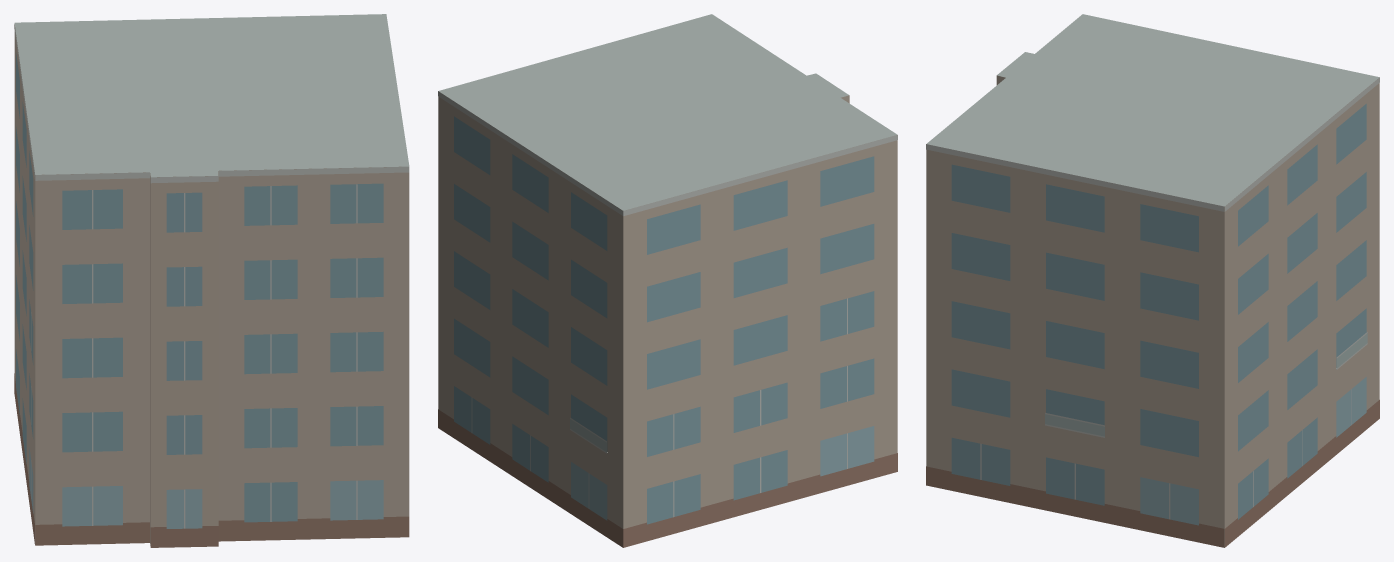
File: survey-upis-32963652.glb
3 renders of one model, left to right at view 1: azimuth 30°, elevation 25°; view 2: azimuth 150°, elevation 25°; view 3: azimuth 270°, elevation 25°, orthographic. The views are drawn at different scales.
Parts seen in each view (by area): view 1: survey-upis-32963652.tmp; view 2: survey-upis-32963652.tmp; view 3: survey-upis-32963652.tmp.
Boxes of the visible parts, <box> form: survey-upis-32963652.tmp: <box>14,14,409,547</box>; survey-upis-32963652.tmp: <box>438,14,897,547</box>; survey-upis-32963652.tmp: <box>926,14,1379,547</box>.
Size of the model in its own units: 18.45 by 15.25 by 18.37.
